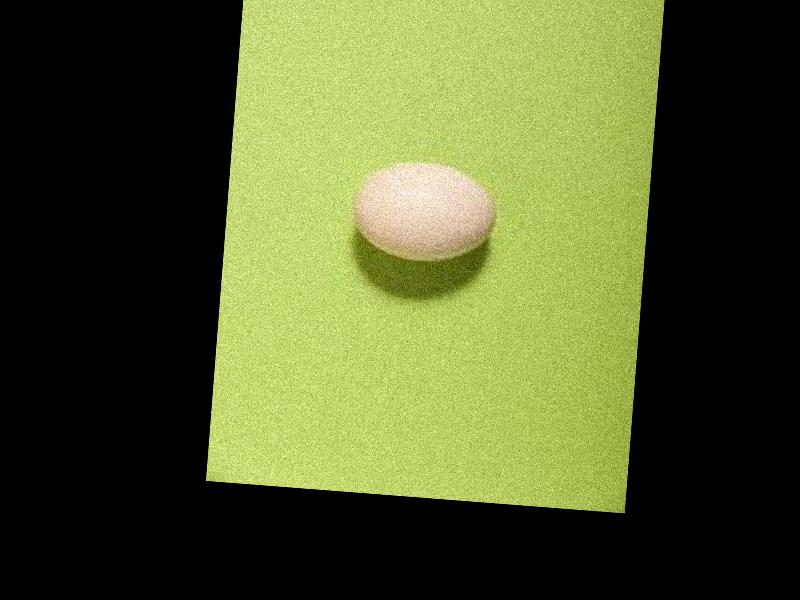Eggs: (350, 160, 501, 266)
